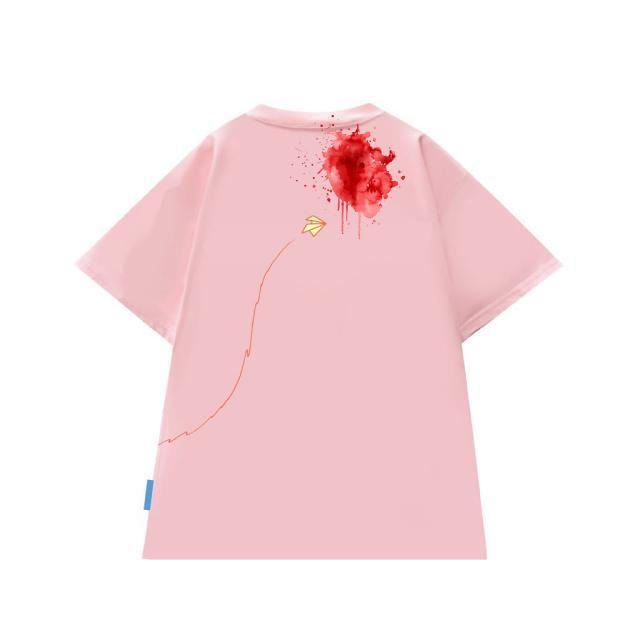stain: (319, 128, 401, 219)
